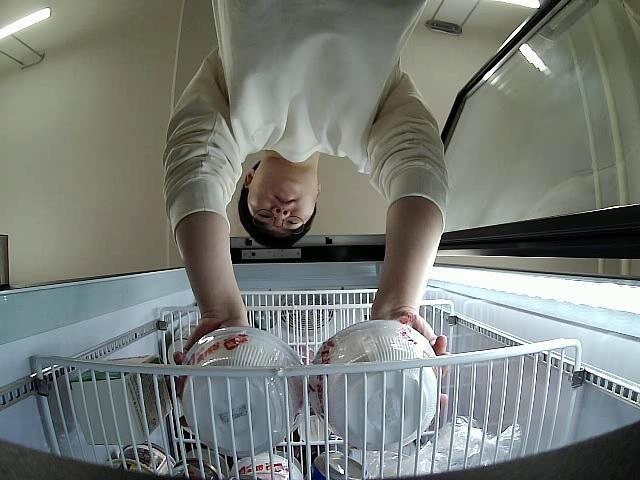09_yukGaeJang: (310, 321, 440, 448), (180, 328, 306, 454)
